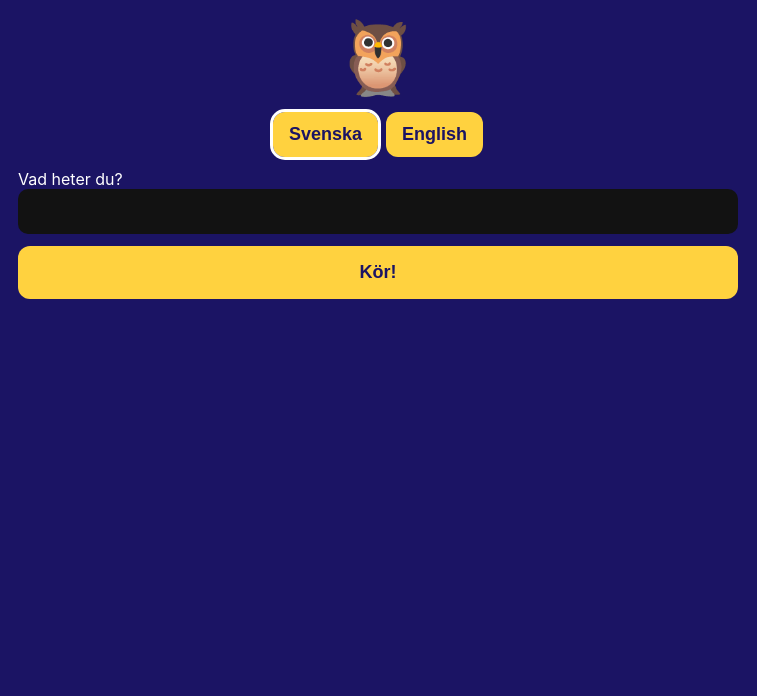
Test: App › chat with the mascot
Type "Elsa" into the field labelled "Vad heter du?".
click(378, 212); type("Elsa")  # box [18, 189, 738, 234]
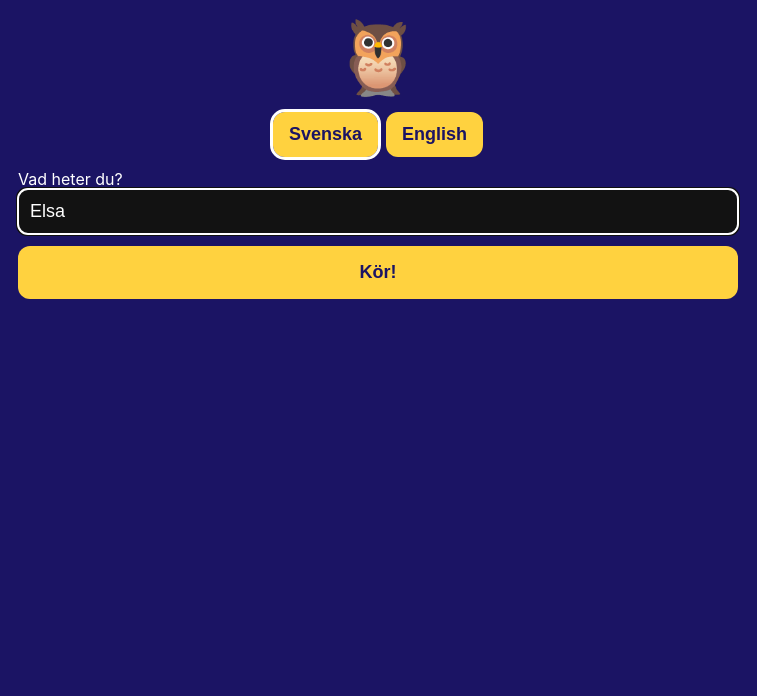
Click the button "Kör!".
click(378, 272)  # box [18, 246, 738, 299]
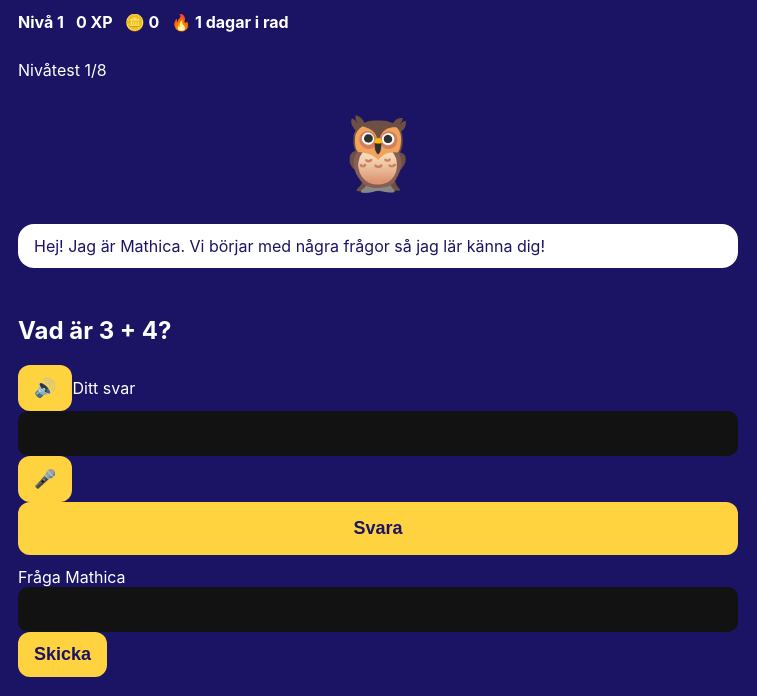
Result: the heading "Vad är 3 + 4?" is shown at [18, 316, 172, 345]
Type "förklara bråk" into the field labelled "Fråga Mathica".
click(378, 609); type("förklara bråk")  # box [18, 587, 738, 632]
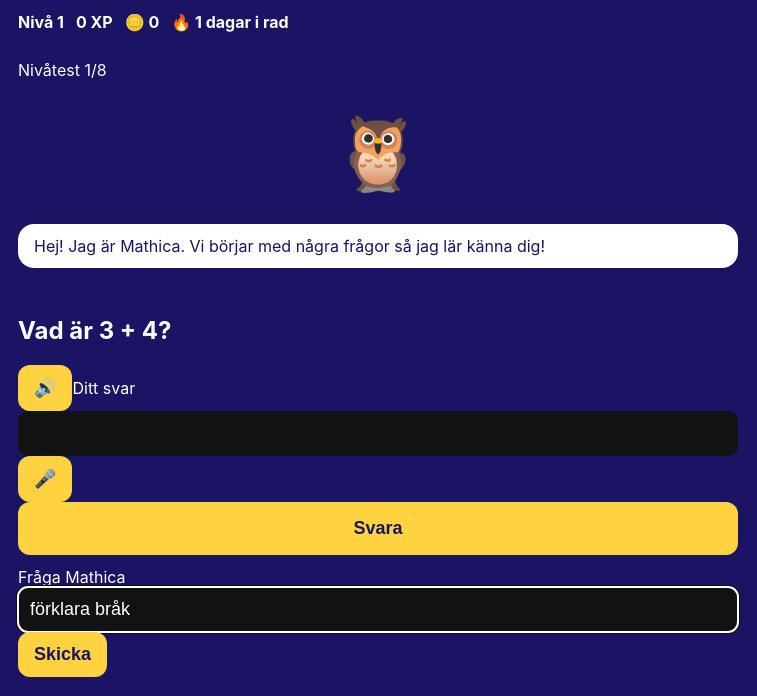
Click the button "Skicka".
click(63, 654)  # box [18, 632, 107, 677]
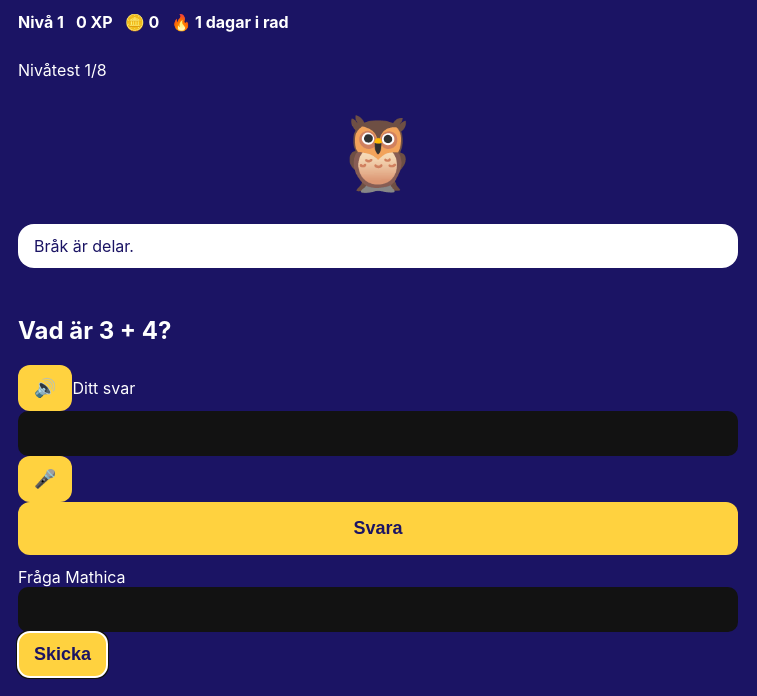
Result: the text "Bråk är delar." is shown at [18, 224, 738, 268]
